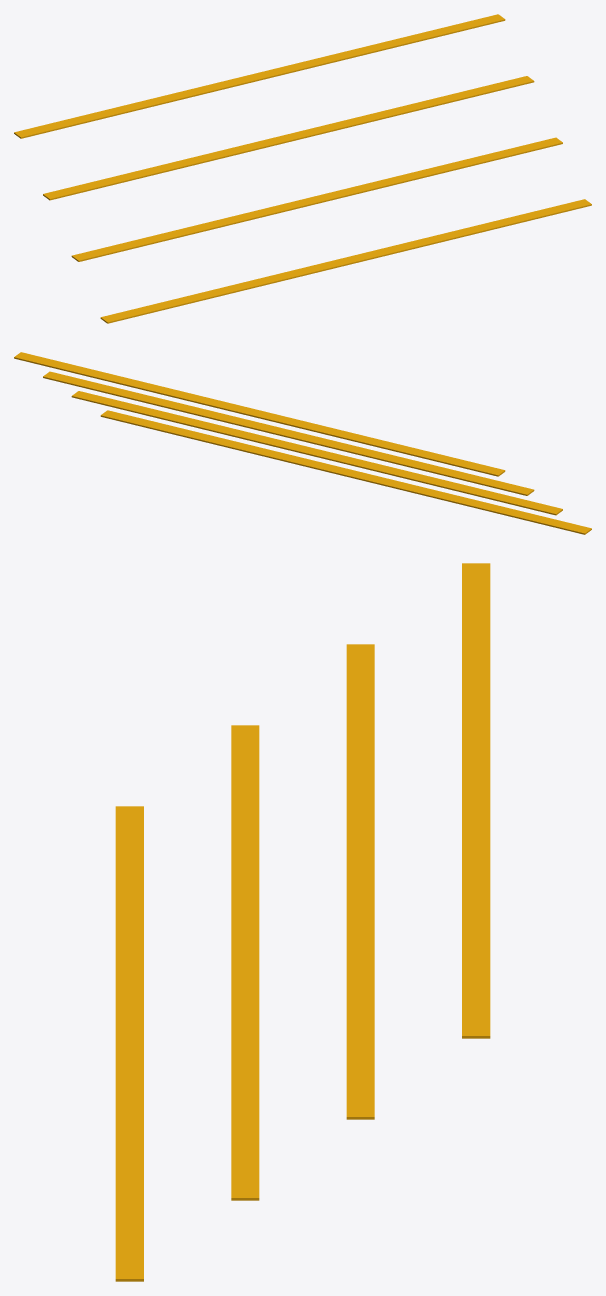
The model's file is gteki_ik_stair_n4_r175_t226_w2206_nosing.glb.
3 renders of one model, top to bottom at view 1: azimuth 30°, elevation 25°; view 2: azimuth 150°, elevation 25°; view 3: azimuth 270°, elevation 25°, orthographic. The views are drawn at different scales.
Parts seen in each view (by area): view 1: VIS_body; view 2: VIS_body; view 3: VIS_body.
Part boxes in pixels (x1,y1,x2,y2): VIS_body: (14, 14, 591, 323); VIS_body: (14, 352, 591, 534); VIS_body: (115, 563, 490, 1281).
Size of the model in its own units: 2.19 by 0.531 by 0.733.
1 material, 1 textured.
